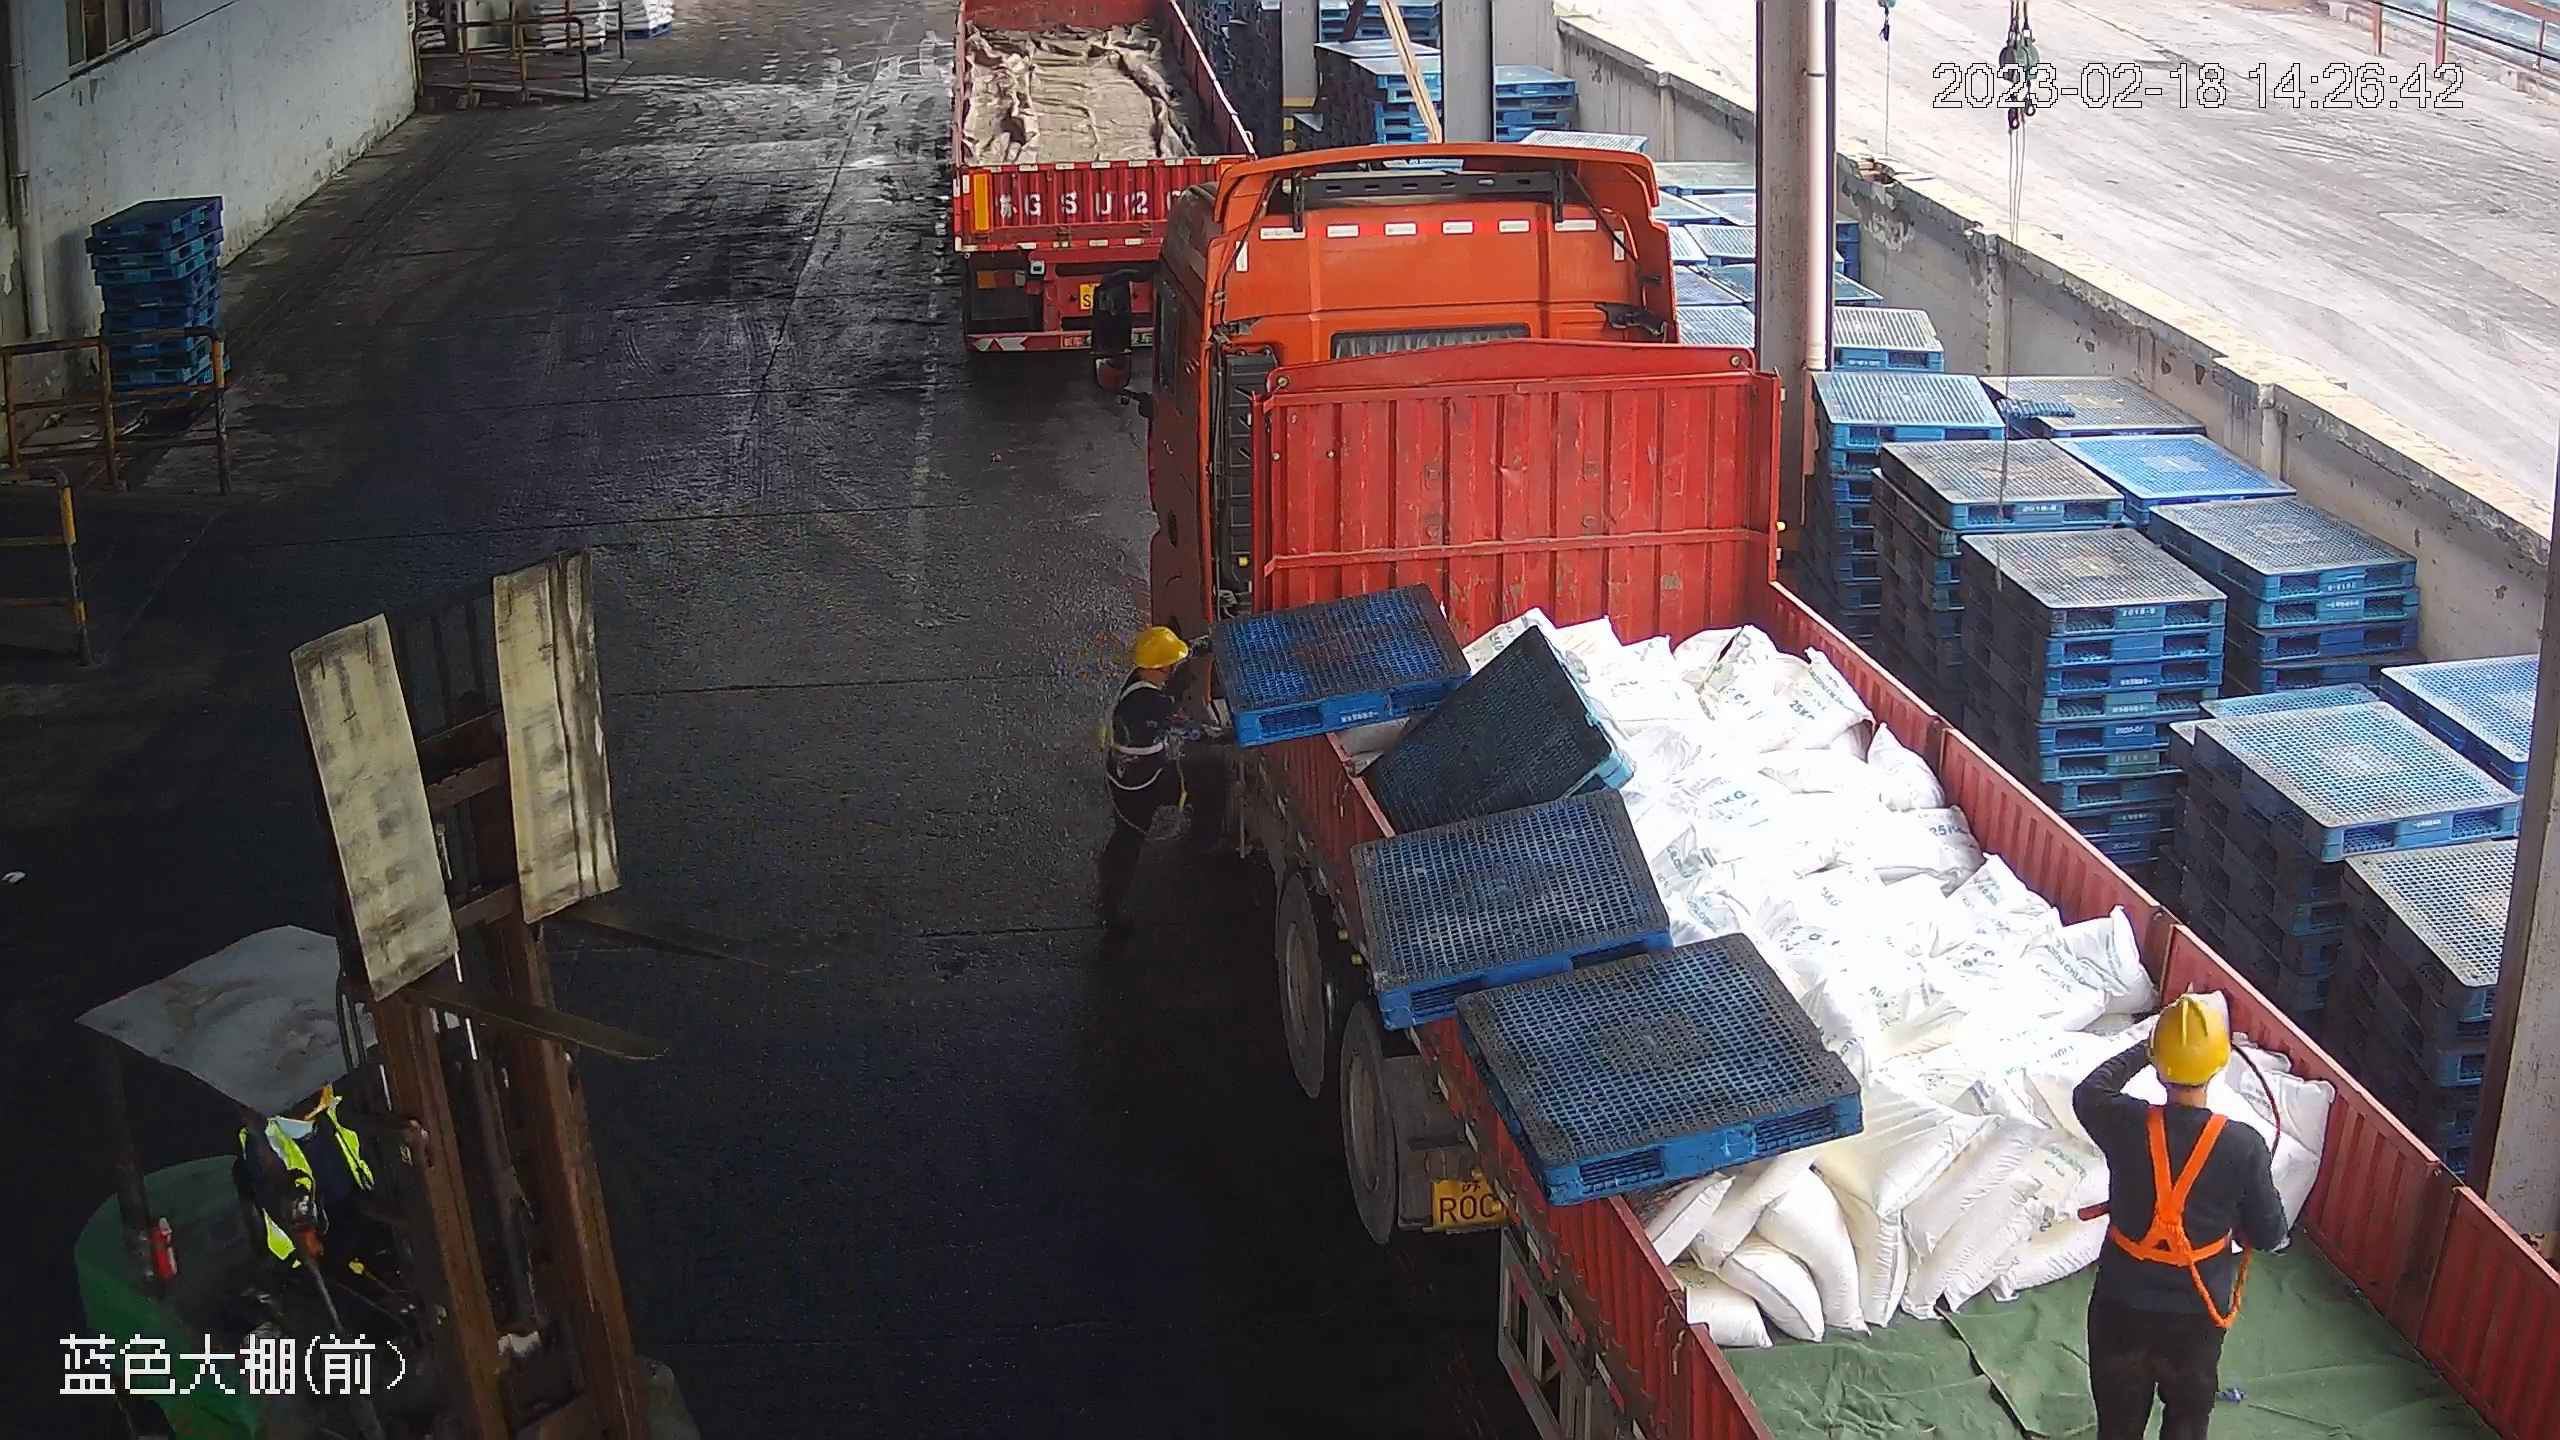belt: (2106, 1100, 2231, 1270), (1101, 674, 1181, 756)
head: (2095, 991, 2271, 1169), (1112, 625, 1192, 718)
helmet: (2149, 990, 2231, 1089), (1133, 626, 1187, 669)
people: (2074, 991, 2287, 1440), (1085, 626, 1226, 941)
truck: (1133, 146, 2560, 1440)
